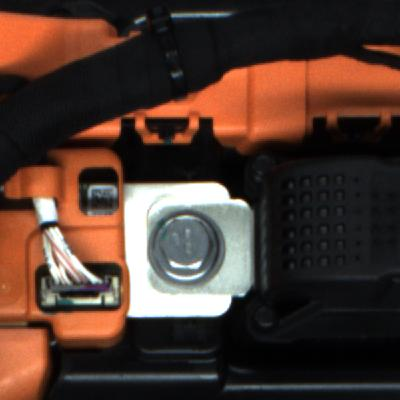nut_b: (138, 199, 239, 297)
